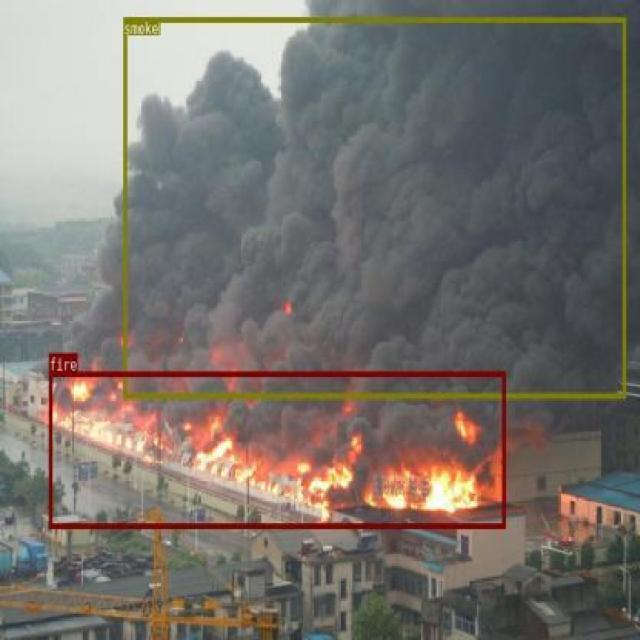Fire: (48, 370, 506, 528)
Smoke: (123, 16, 626, 398)
